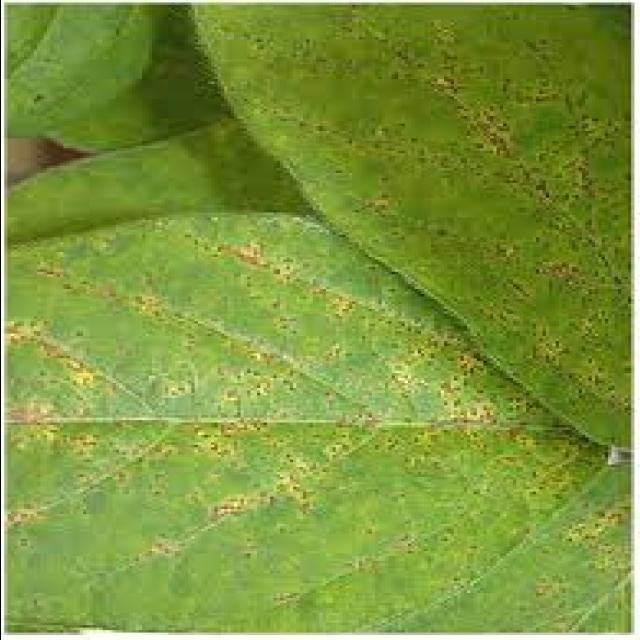bercak_daun: (47, 300, 430, 519)
